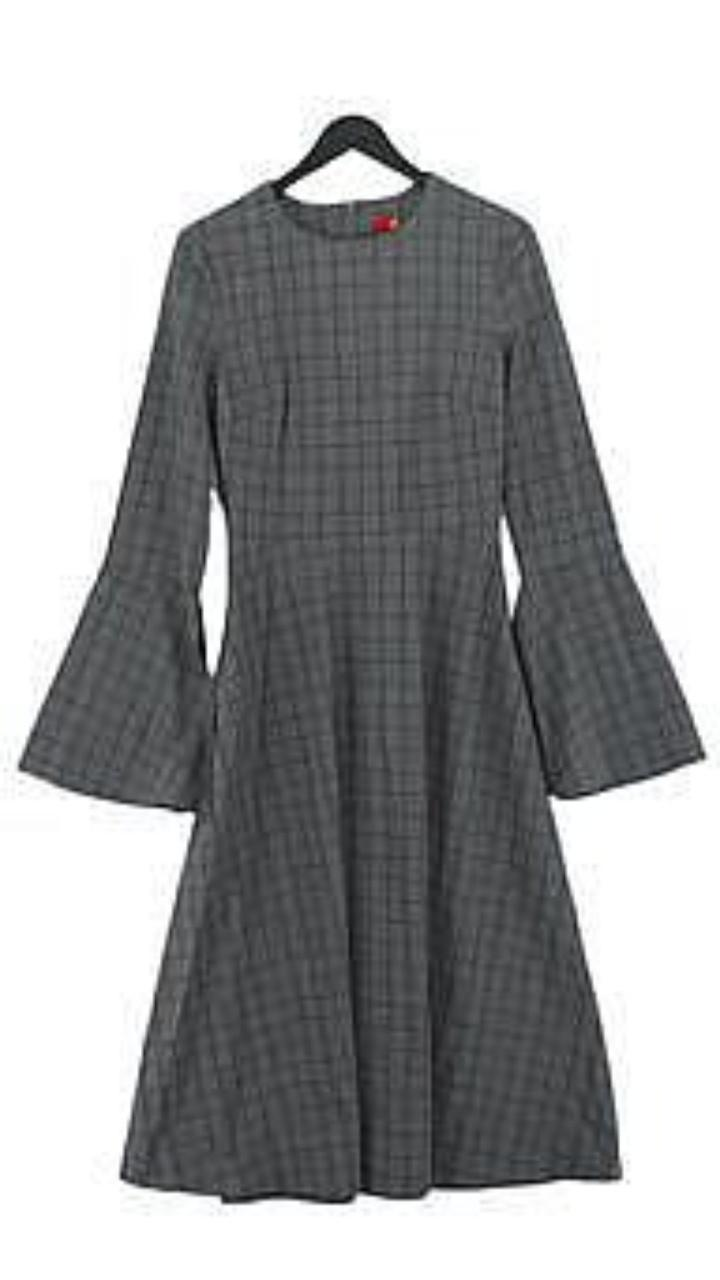Dresses: (20, 174, 702, 1202)
